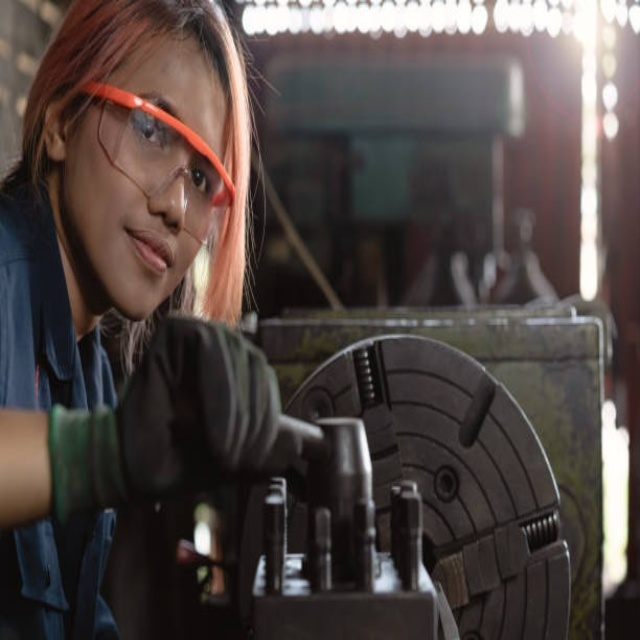Gafas: (83, 90, 234, 253)
Guantes: (48, 315, 313, 519)
Sin_mascara: (111, 215, 172, 285)
